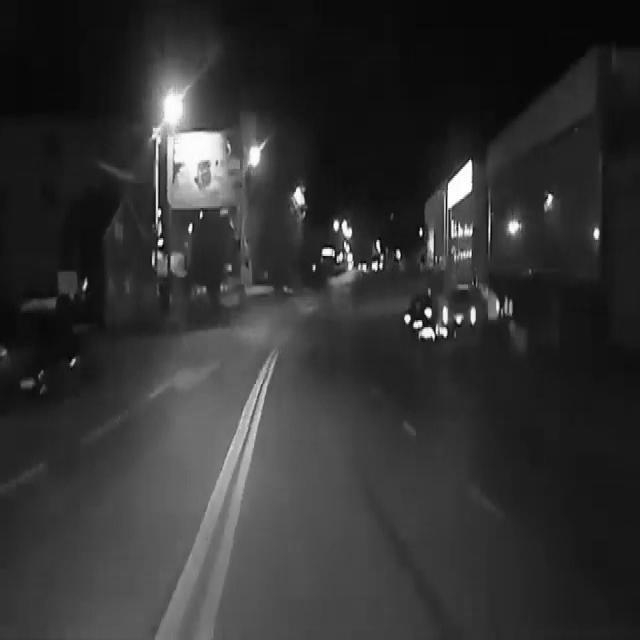moderate: (399, 277, 497, 349)
